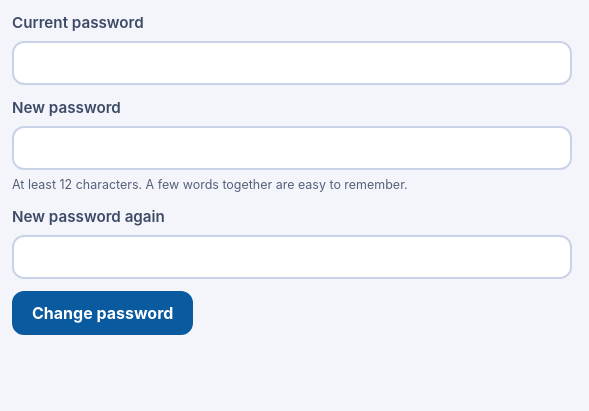
Scenario: ChangePasswordForm › sends the three passwords and confirms the change
Type "old-password-1" into the password field labelled "Current password" at (292, 63), box x1=12 y1=41 x2=572 y2=85
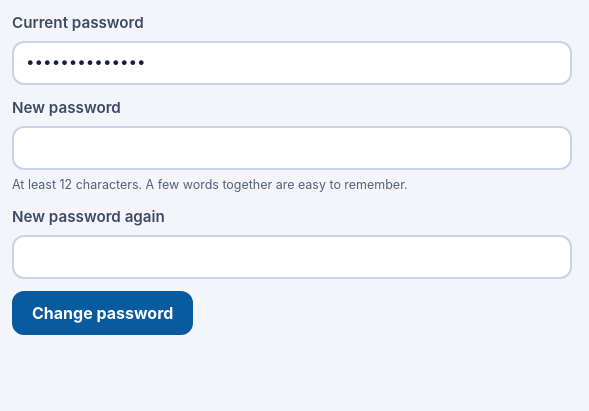
Type "new-password-123" into the password field labelled "New password" at (292, 148), box x1=12 y1=126 x2=572 y2=170
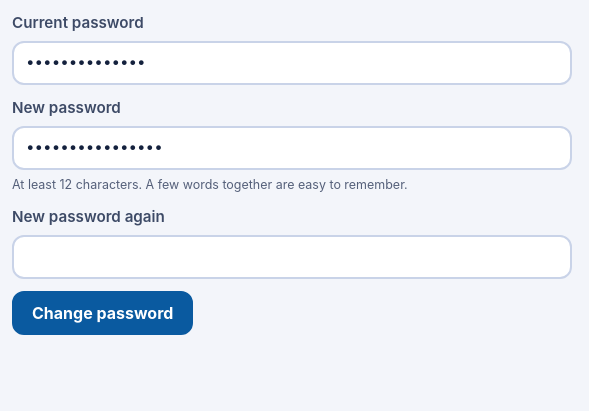
Type "new-password-123" into the password field labelled "New password again" at (292, 257), box x1=12 y1=235 x2=572 y2=279
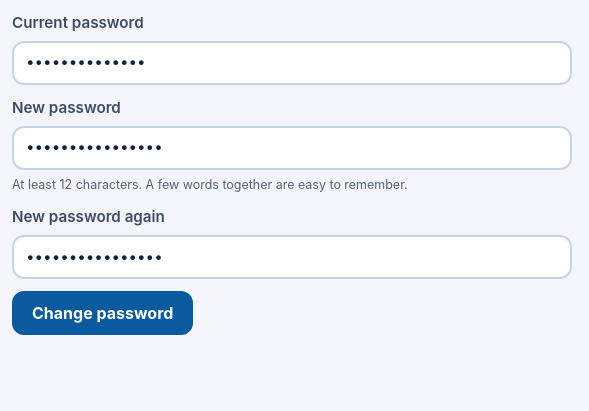
Click the button "Change password" at (103, 313), box x1=12 y1=291 x2=193 y2=335
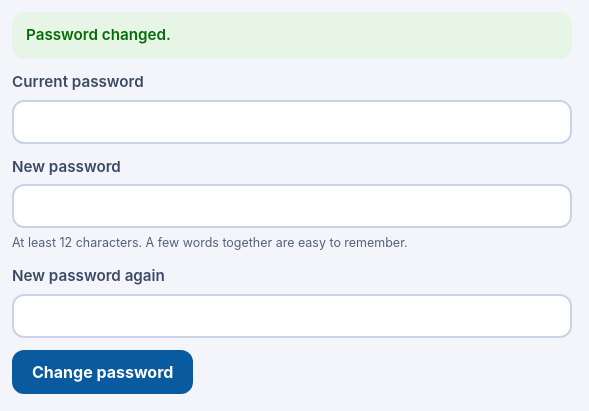
Check: the message reads "Password changed.", box x1=26 y1=25 x2=171 y2=44
